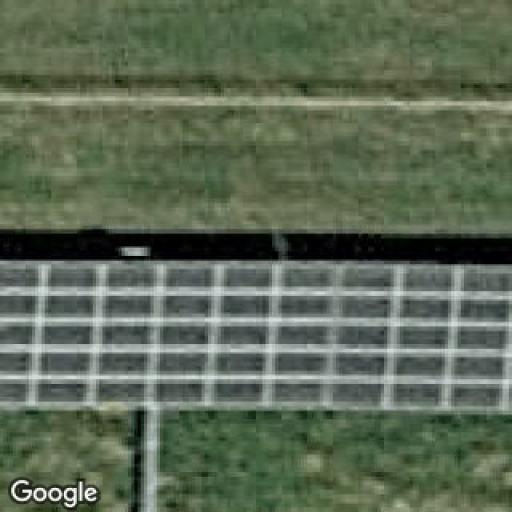solar-panel: (0, 261, 512, 411)
